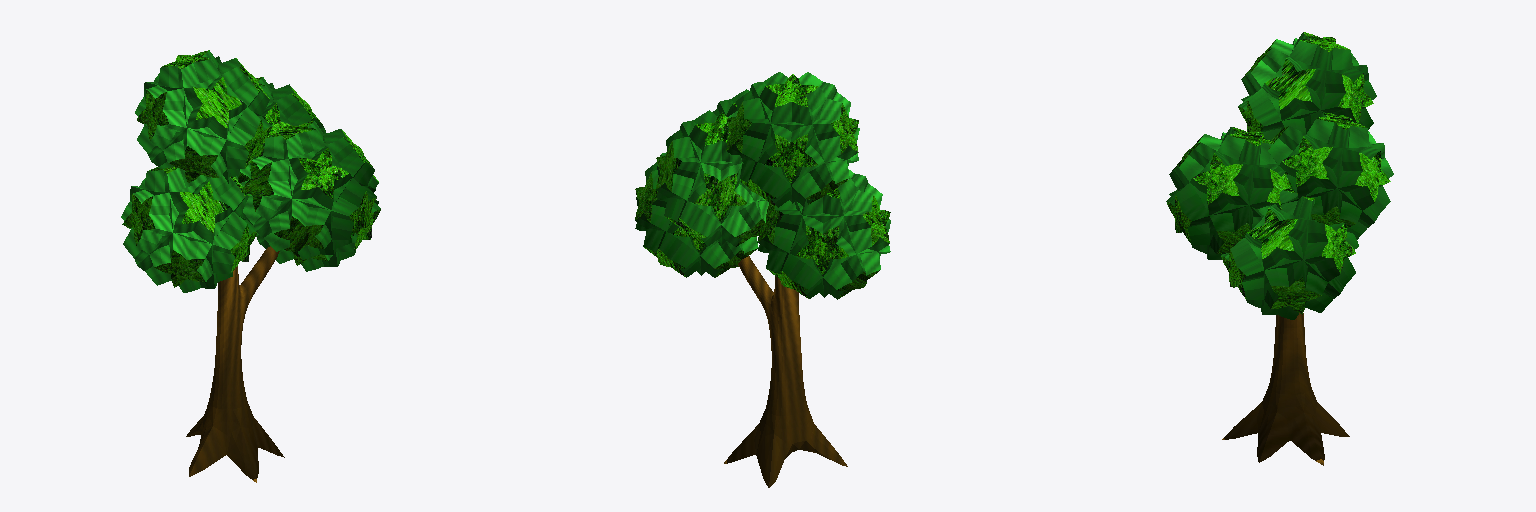
The picture shows the model from 3 angles: view 1: azimuth 30°, elevation 25°; view 2: azimuth 150°, elevation 25°; view 3: azimuth 270°, elevation 25°; orthographic projection.
Parts seen in each view (by area): view 1: mesh05_1_1, mesh04_1_1, mesh01_1_1, mesh03_1_1, mesh06_1, mesh02_1_1; view 2: mesh04_1_1, mesh01_1_1, mesh06_1, mesh03_1_1, mesh02_1_1; view 3: mesh02_1_1, mesh05_1_1, mesh04_1_1, mesh06_1, mesh03_1_1.
Boxes of the visible parts, <box> form: mesh05_1_1: <box>240,121,376,259</box>; mesh04_1_1: <box>135,50,272,183</box>; mesh01_1_1: <box>121,167,256,292</box>; mesh03_1_1: <box>186,246,284,482</box>; mesh06_1: <box>236,77,323,182</box>; mesh02_1_1: <box>256,175,380,271</box>; mesh04_1_1: <box>726,72,859,207</box>; mesh01_1_1: <box>757,169,890,299</box>; mesh06_1: <box>656,110,768,246</box>; mesh03_1_1: <box>724,256,847,487</box>; mesh02_1_1: <box>635,152,758,277</box>; mesh02_1_1: <box>1221,188,1358,319</box>; mesh05_1_1: <box>1166,127,1291,259</box>; mesh04_1_1: <box>1238,32,1376,140</box>; mesh06_1: <box>1268,113,1393,239</box>; mesh03_1_1: <box>1222,313,1349,465</box>.
Bounding box in the file's own units: 4480 × 7034 × 3662.
Materials: 3 (3 with a texture image).